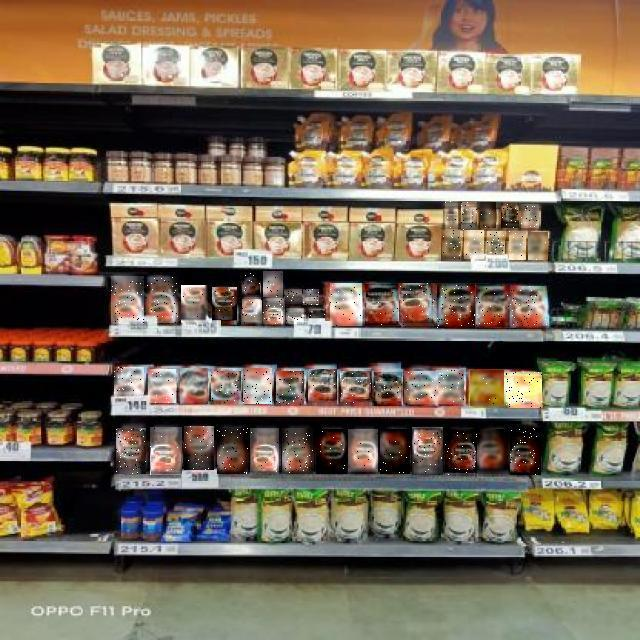Coffee: (437, 284, 475, 328), (111, 276, 144, 324), (508, 286, 547, 326), (150, 427, 182, 475), (400, 284, 436, 326), (412, 427, 443, 475), (445, 430, 477, 476), (476, 284, 510, 327), (510, 428, 541, 475), (147, 277, 178, 323), (282, 428, 313, 474), (217, 428, 248, 474), (477, 430, 508, 476), (316, 429, 347, 474), (116, 428, 146, 474), (330, 283, 362, 326), (504, 372, 542, 408), (365, 284, 398, 325), (381, 429, 411, 474), (250, 428, 279, 474), (184, 427, 214, 471), (348, 430, 378, 474), (470, 371, 504, 407), (404, 371, 438, 404), (340, 372, 372, 406), (182, 286, 210, 324), (308, 370, 337, 406), (243, 368, 272, 404), (180, 368, 208, 404), (211, 372, 241, 404), (149, 369, 177, 403), (276, 372, 304, 406), (436, 371, 464, 405), (375, 372, 403, 406), (212, 288, 237, 324), (114, 368, 144, 396), (464, 230, 484, 259), (263, 299, 285, 325), (529, 232, 549, 260), (442, 230, 460, 259), (263, 271, 283, 297), (243, 300, 263, 326), (509, 231, 526, 260), (501, 203, 519, 228), (461, 202, 477, 230), (521, 204, 539, 228), (487, 231, 505, 255), (242, 271, 260, 295), (481, 203, 497, 229), (445, 201, 458, 230), (304, 289, 322, 305), (284, 290, 302, 306), (287, 308, 305, 324), (309, 310, 325, 322)
